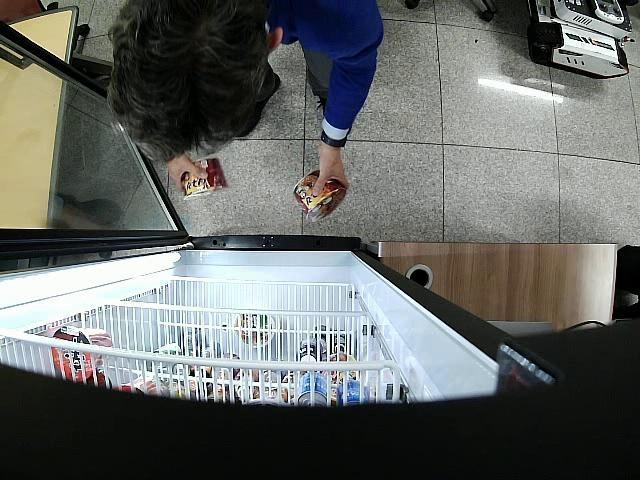05_nuguri_L: (292, 170, 346, 222), (182, 158, 230, 200)
